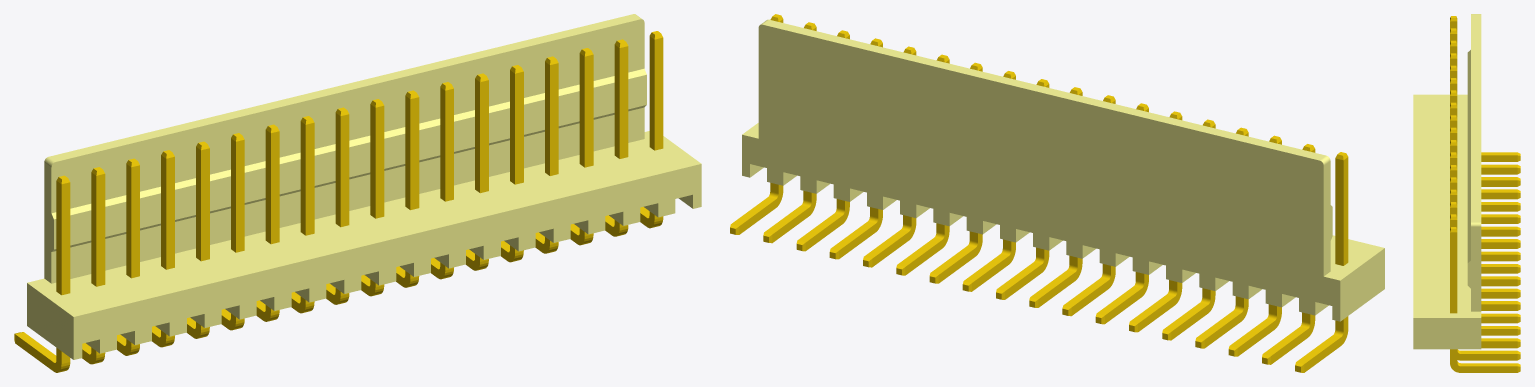
Rendered from DS1070-18MR (WF-18RA CONNFLY).obj.
3 renders of one model, left to right at view 1: azimuth 30°, elevation 25°; view 2: azimuth 150°, elevation 25°; view 3: azimuth 270°, elevation 25°, orthographic. The views are drawn at different scales.
Visible parts, largest first — view 1: DS1070-18MR_(WF-18RA_CONNFLY); view 2: DS1070-18MR_(WF-18RA_CONNFLY); view 3: DS1070-18MR_(WF-18RA_CONNFLY).
Boxes of the visible parts, x1,y1,x2,y2 form: DS1070-18MR_(WF-18RA_CONNFLY): (14, 14, 701, 372); DS1070-18MR_(WF-18RA_CONNFLY): (730, 14, 1384, 372); DS1070-18MR_(WF-18RA_CONNFLY): (1413, 14, 1520, 372).
Bounding box in the file's own units: 0.0202 × 0.00623 × 0.00411.
